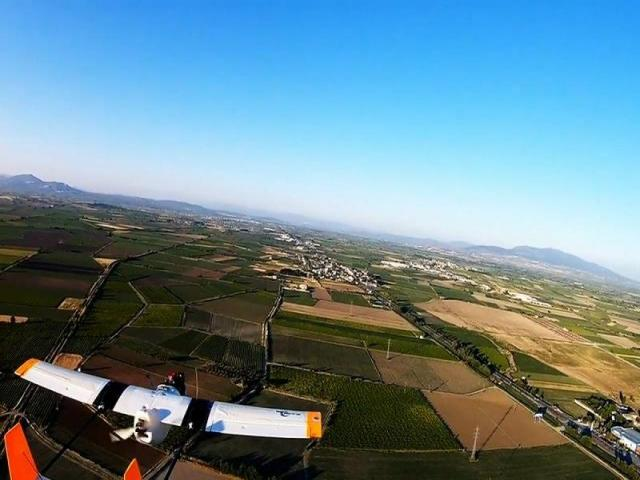hedef: (7, 350, 327, 480)
